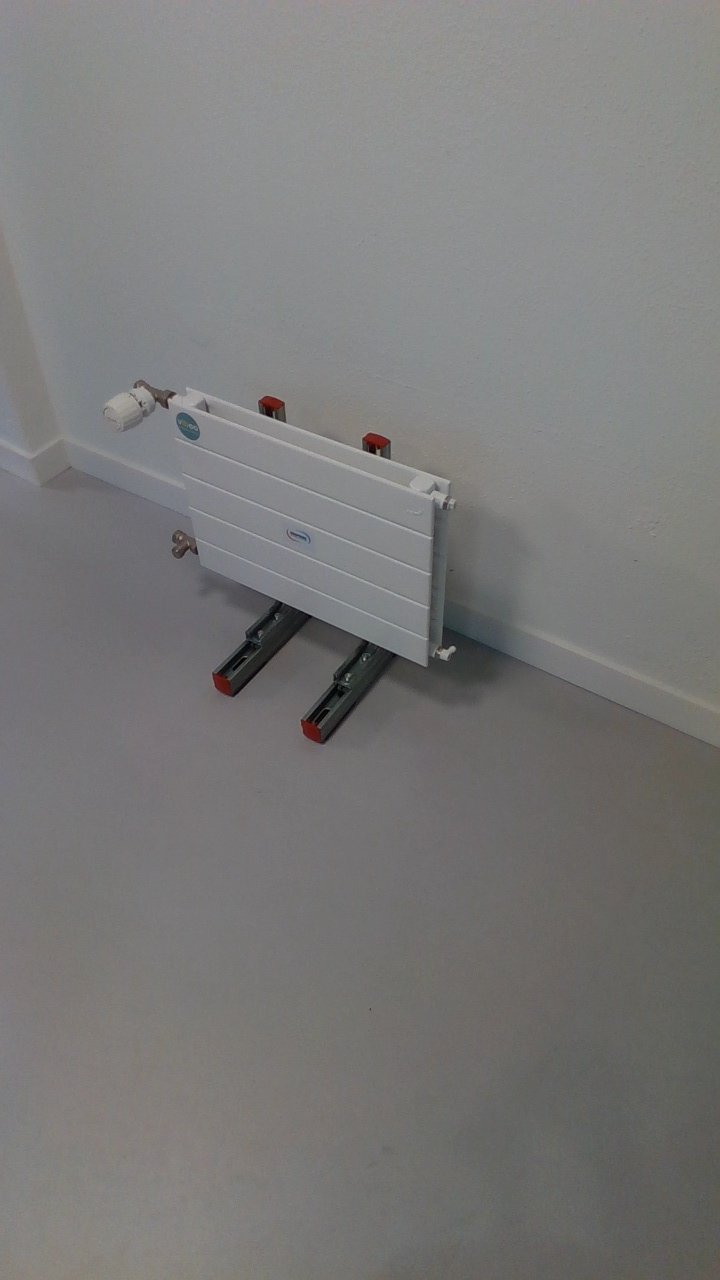Knob_Radiator: (92, 374, 175, 443)
Radiator: (163, 381, 464, 680)
